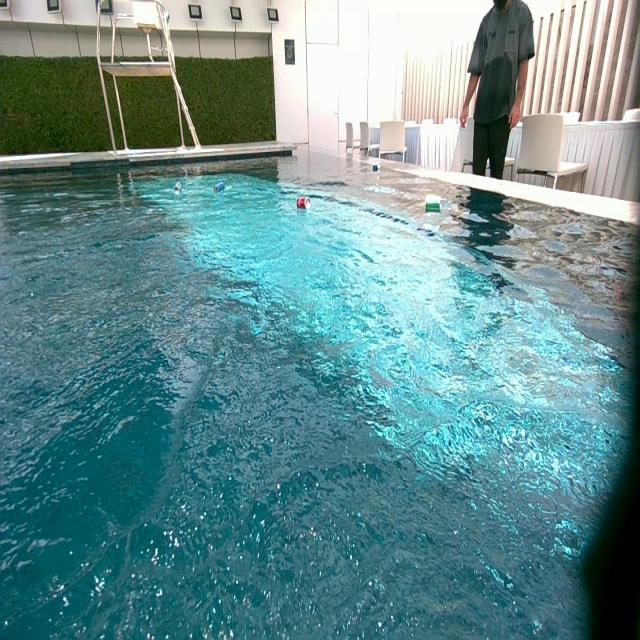Cans: (426, 196, 443, 214), (295, 197, 309, 211), (213, 180, 224, 194), (174, 180, 182, 195), (371, 162, 379, 170), (374, 164, 381, 172)
